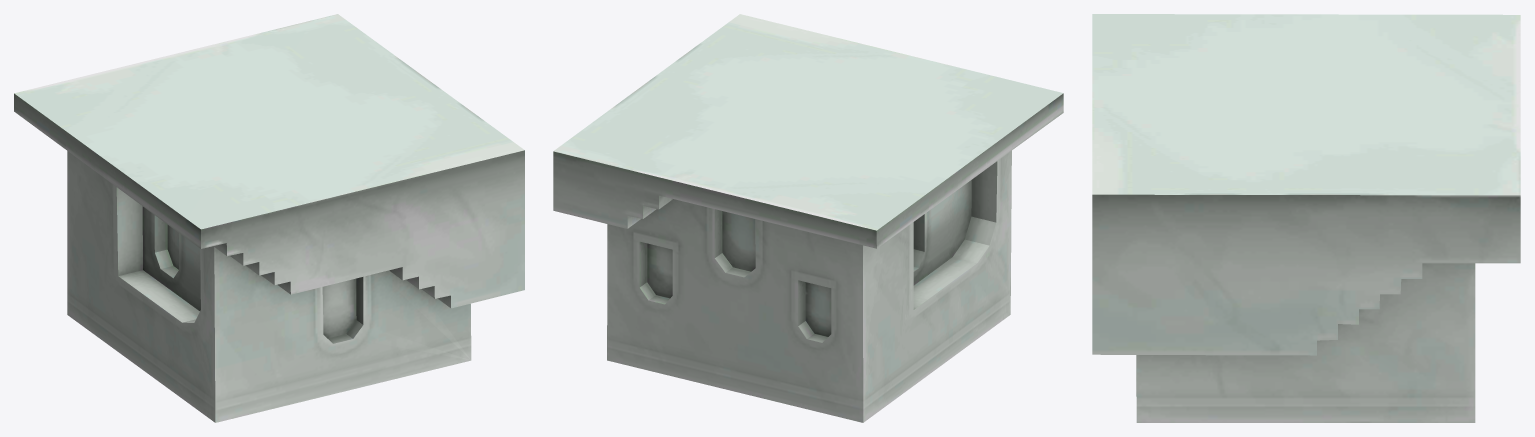
File: BuildingBlock01.obj
The picture shows the model from 3 angles, left to right: view 1: azimuth 30°, elevation 25°; view 2: azimuth 150°, elevation 25°; view 3: azimuth 270°, elevation 25°; orthographic projection. The views are drawn at different scales.
Parts seen in each view (by area): view 1: BuildingBlock01_0; view 2: BuildingBlock01_0; view 3: BuildingBlock01_0.
Part boxes in pixels (x1,y1,x2,y2): BuildingBlock01_0: (14,14,524,422); BuildingBlock01_0: (553,14,1063,422); BuildingBlock01_0: (1092,14,1520,422).
Bounding box in the file's own units: 1.9 × 1.21 × 1.9.
Materials: 1 (1 with a texture image).
